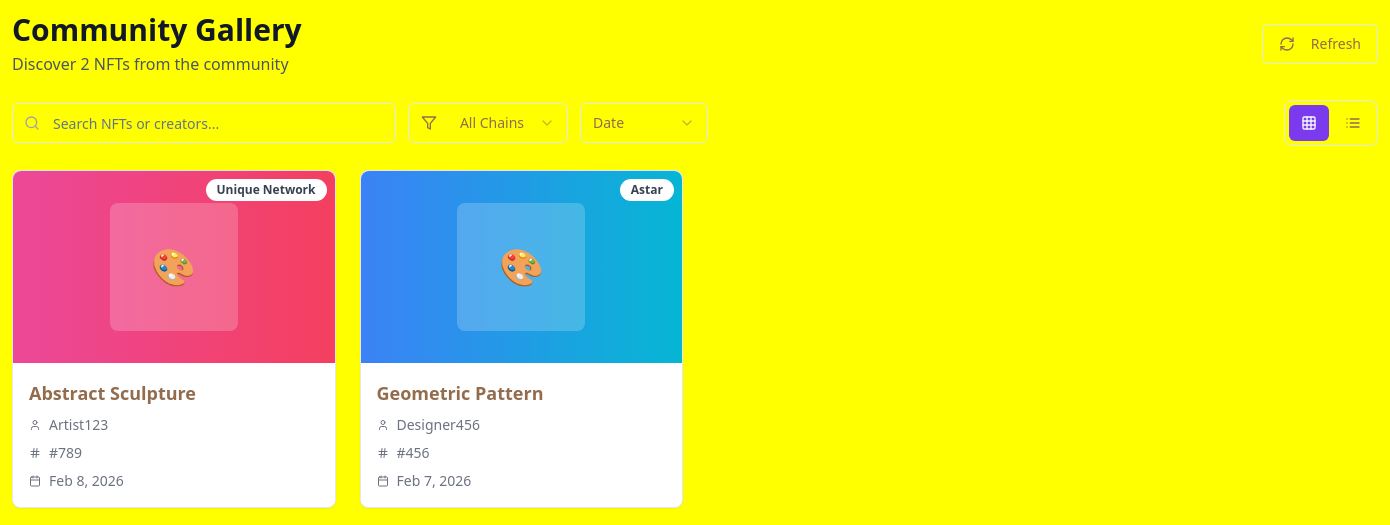
Test: CommunityGallery › handles search functionality
Expected: the heading "Abstract Sculpture" is shown, [29, 381, 196, 405]
Type "Abstract" into the field with placeholder "Search NFTs or creators..." at (204, 123), box [12, 103, 396, 143]
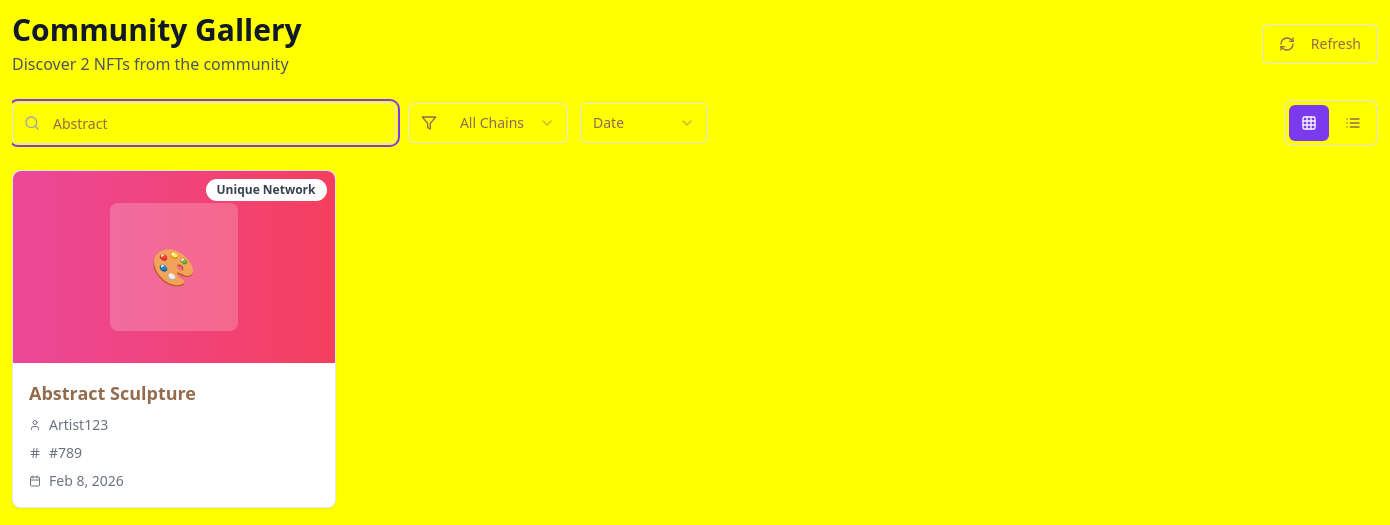
Expected: the heading "Abstract Sculpture" is shown, [29, 381, 196, 405]
Now the button "Geometric Pattern" is gone
